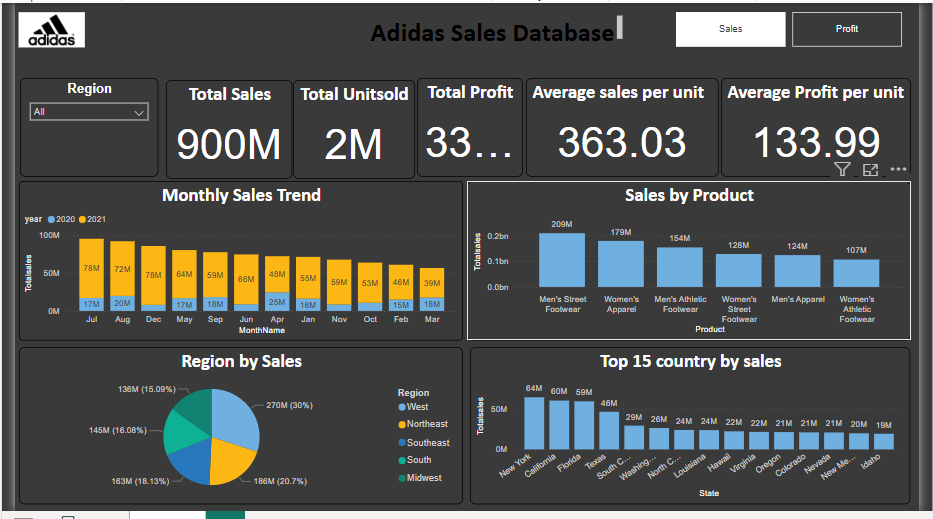

This screenshot's page, from the dashboard's own definition file:
{"tool":"powerbi","page":{"name":"Page 1","canvas":[1280,720],"ordinal":0},"visuals":[{"type":"card","title":"Total Sales","fields":{"Values":["Data Sales Adidas.Total_Sales"]},"box":[213.6,108.4,179.1,139.7],"z":0},{"type":"card","title":"Total Profit","fields":{"Values":["Data Sales Adidas.Total_profit"]},"box":[570.2,106.8,149.5,139.7],"z":1000},{"type":"card","title":"Total Unitsold","fields":{"Values":["Data Sales Adidas.Total_unitsold"]},"box":[394.4,108.4,172.5,139.7],"z":2000},{"type":"image","box":[0,0,104,76.9],"z":3000},{"type":"textbox","box":[496.2,13.1,369.7,49.3],"z":4000},{"type":"card","title":"Average sales per unit","fields":{"Values":["Data Sales Adidas.average unit price"]},"box":[724.6,106.8,272.8,139.7],"z":5000},{"type":"card","title":"Average Profit per unit","fields":{"Values":["Data Sales Adidas.Average unit profit"]},"box":[1000.7,106.8,269.5,139.7],"z":6000},{"type":"columnChart","title":"Monthly Sales Trend","fields":{"Category":["ddate.monthname"],"Y":["Data Sales Adidas.Total_Sales"],"Series":["ddate.year"]},"box":[6,251.8,628.7,226.1],"z":7000},{"type":"columnChart","title":"Sales by Product","fields":{"Y":["Data Sales Adidas.Total_Sales"],"Category":["Data Sales Adidas.Product"]},"box":[640.8,251.8,628.7,226.1],"z":8000},{"type":"pieChart","title":"Region by Sales","fields":{"Category":["Data Sales Adidas.Region"],"Y":["Data Sales Adidas.Total_Sales"]},"box":[6,487,628.7,223.1],"z":9000},{"type":"clusteredColumnChart","title":"Top 15 country by sales","fields":{"Category":["Data Sales Adidas.State"],"Y":["Sum(Data Sales Adidas.Total Sales)"]},"box":[645.3,487,624.2,223.1],"z":10000},{"type":"bookmarkNavigator","box":[936.9,12.8,321.7,49.6],"z":15000},{"type":"slicer","title":"Region","fields":{"Values":["Data Sales Adidas.Region"]},"box":[6.6,106.8,195.5,139.7],"z":16000}]}

Visuals, with their boxes in screenshot pixels (x1, y1, x2, y2), scaled from the page's 1280x720 canvas onto the 933x519 screenshot:
"Total Sales" card: (left=156, top=78, right=286, bottom=179)
"Total Profit" card: (left=416, top=77, right=525, bottom=178)
"Total Unitsold" card: (left=287, top=78, right=413, bottom=179)
image: (left=0, top=0, right=76, bottom=55)
textbox: (left=362, top=9, right=631, bottom=45)
"Average sales per unit" card: (left=528, top=77, right=727, bottom=178)
"Average Profit per unit" card: (left=729, top=77, right=926, bottom=178)
"Monthly Sales Trend" columnChart: (left=4, top=182, right=463, bottom=344)
"Sales by Product" columnChart: (left=467, top=182, right=925, bottom=344)
"Region by Sales" pieChart: (left=4, top=351, right=463, bottom=512)
"Top 15 country by sales" clusteredColumnChart: (left=470, top=351, right=925, bottom=512)
bookmarkNavigator: (left=683, top=9, right=917, bottom=45)
"Region" slicer: (left=5, top=77, right=147, bottom=178)
